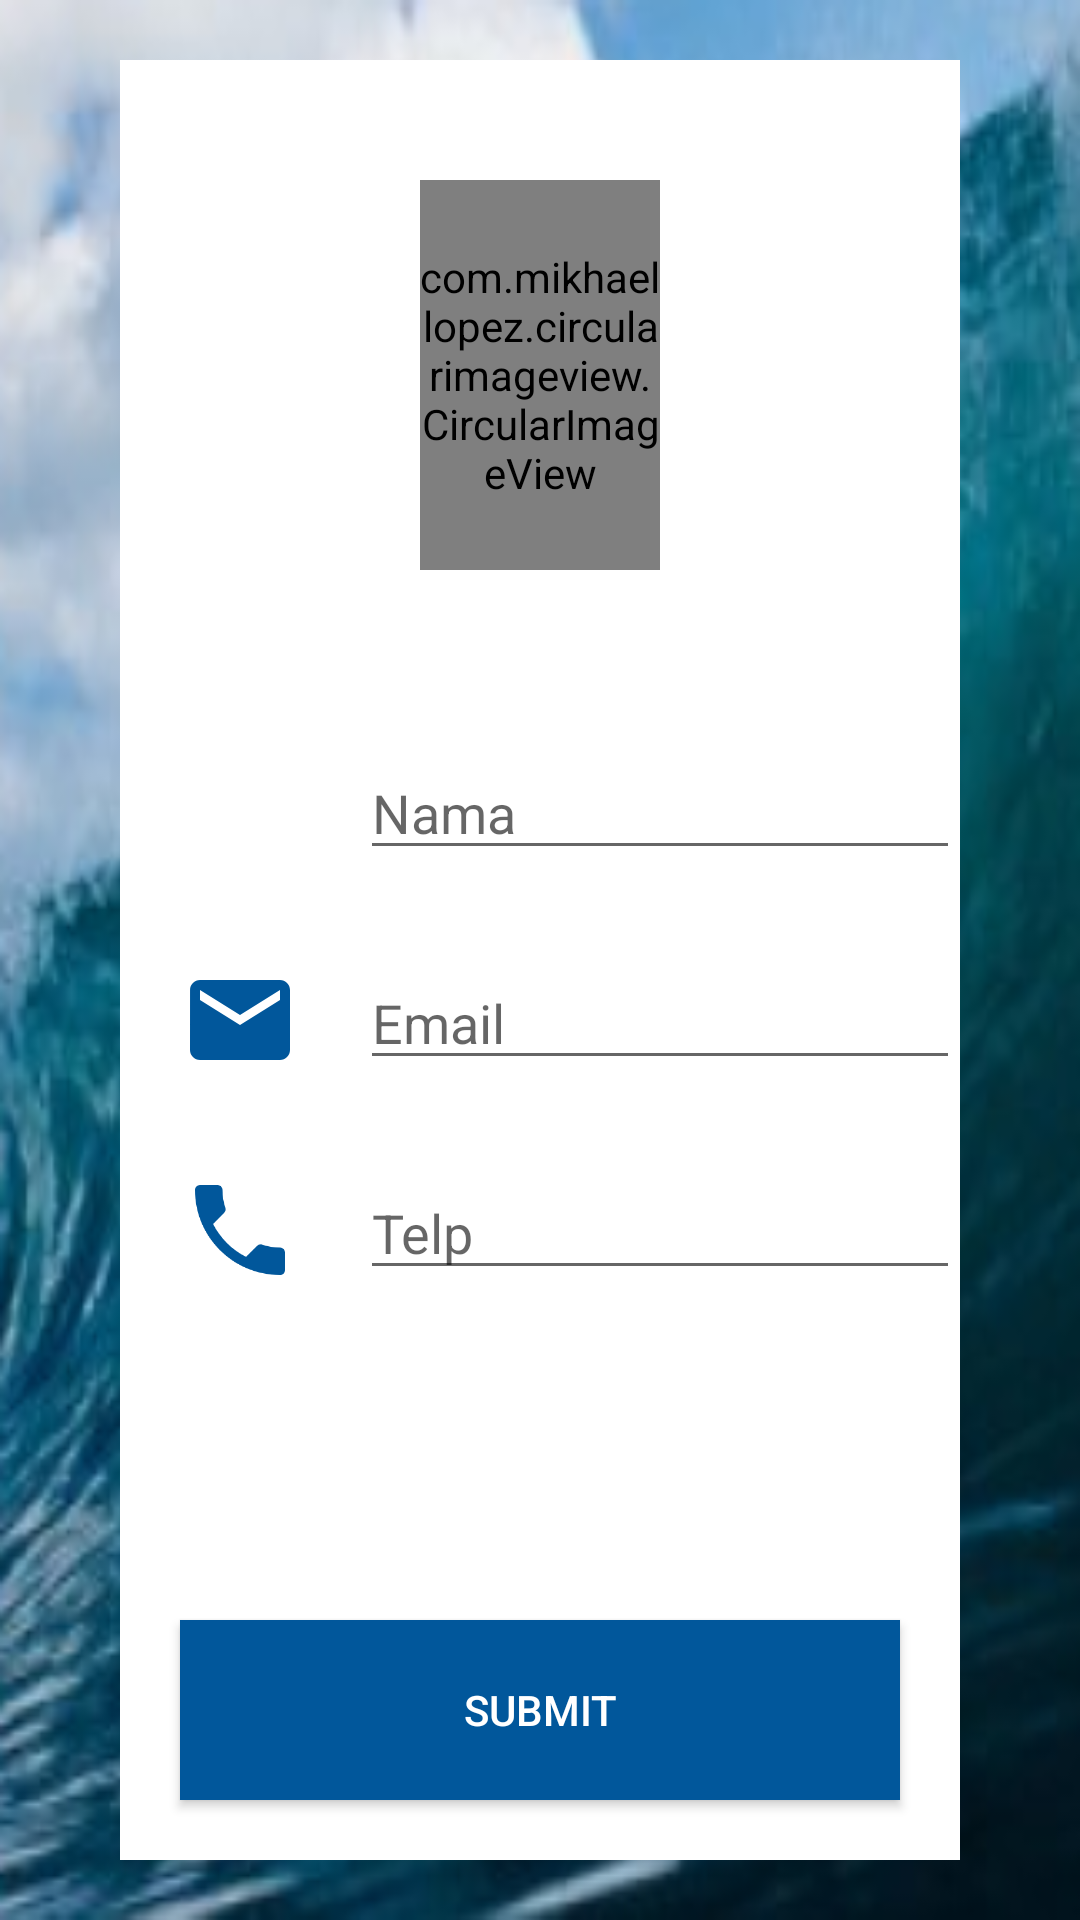

Icons on this 1080w x 1920h Android screen, each with its box as detection(x1, y1, x2, y2):
phone: detection(195, 1185, 285, 1275)
